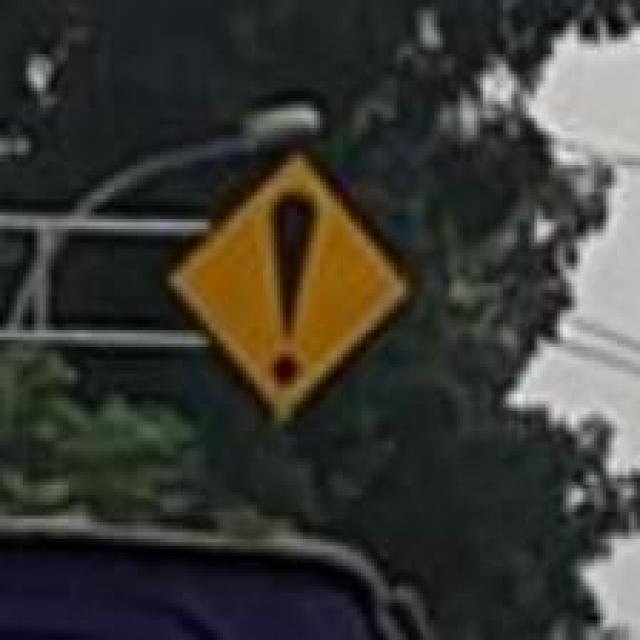traffic sign: (166, 152, 412, 418)
